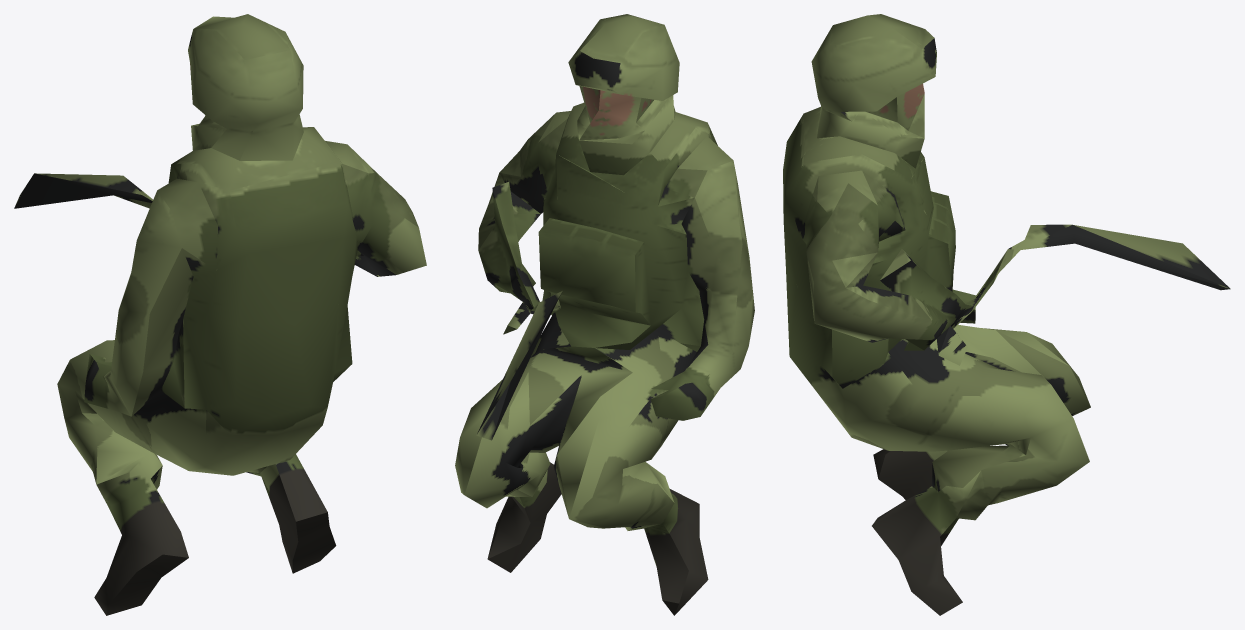
File: rifle_soldier_crouch.glb
3 renders of one model, left to right at view 1: azimuth 30°, elevation 25°; view 2: azimuth 150°, elevation 25°; view 3: azimuth 270°, elevation 25°, orthographic. The views are drawn at different scales.
Parts seen in each view (by area): view 1: rifle_soldier_crouch; view 2: rifle_soldier_crouch; view 3: rifle_soldier_crouch.
Part boxes in pixels (x1,y1,x2,y2): rifle_soldier_crouch: (14,14,426,615); rifle_soldier_crouch: (455,14,754,615); rifle_soldier_crouch: (783,14,1230,615).
Bounding box in the file's own units: 0.0917 × 0.1832 × 0.1338.
Materials: 1 (1 with a texture image).
